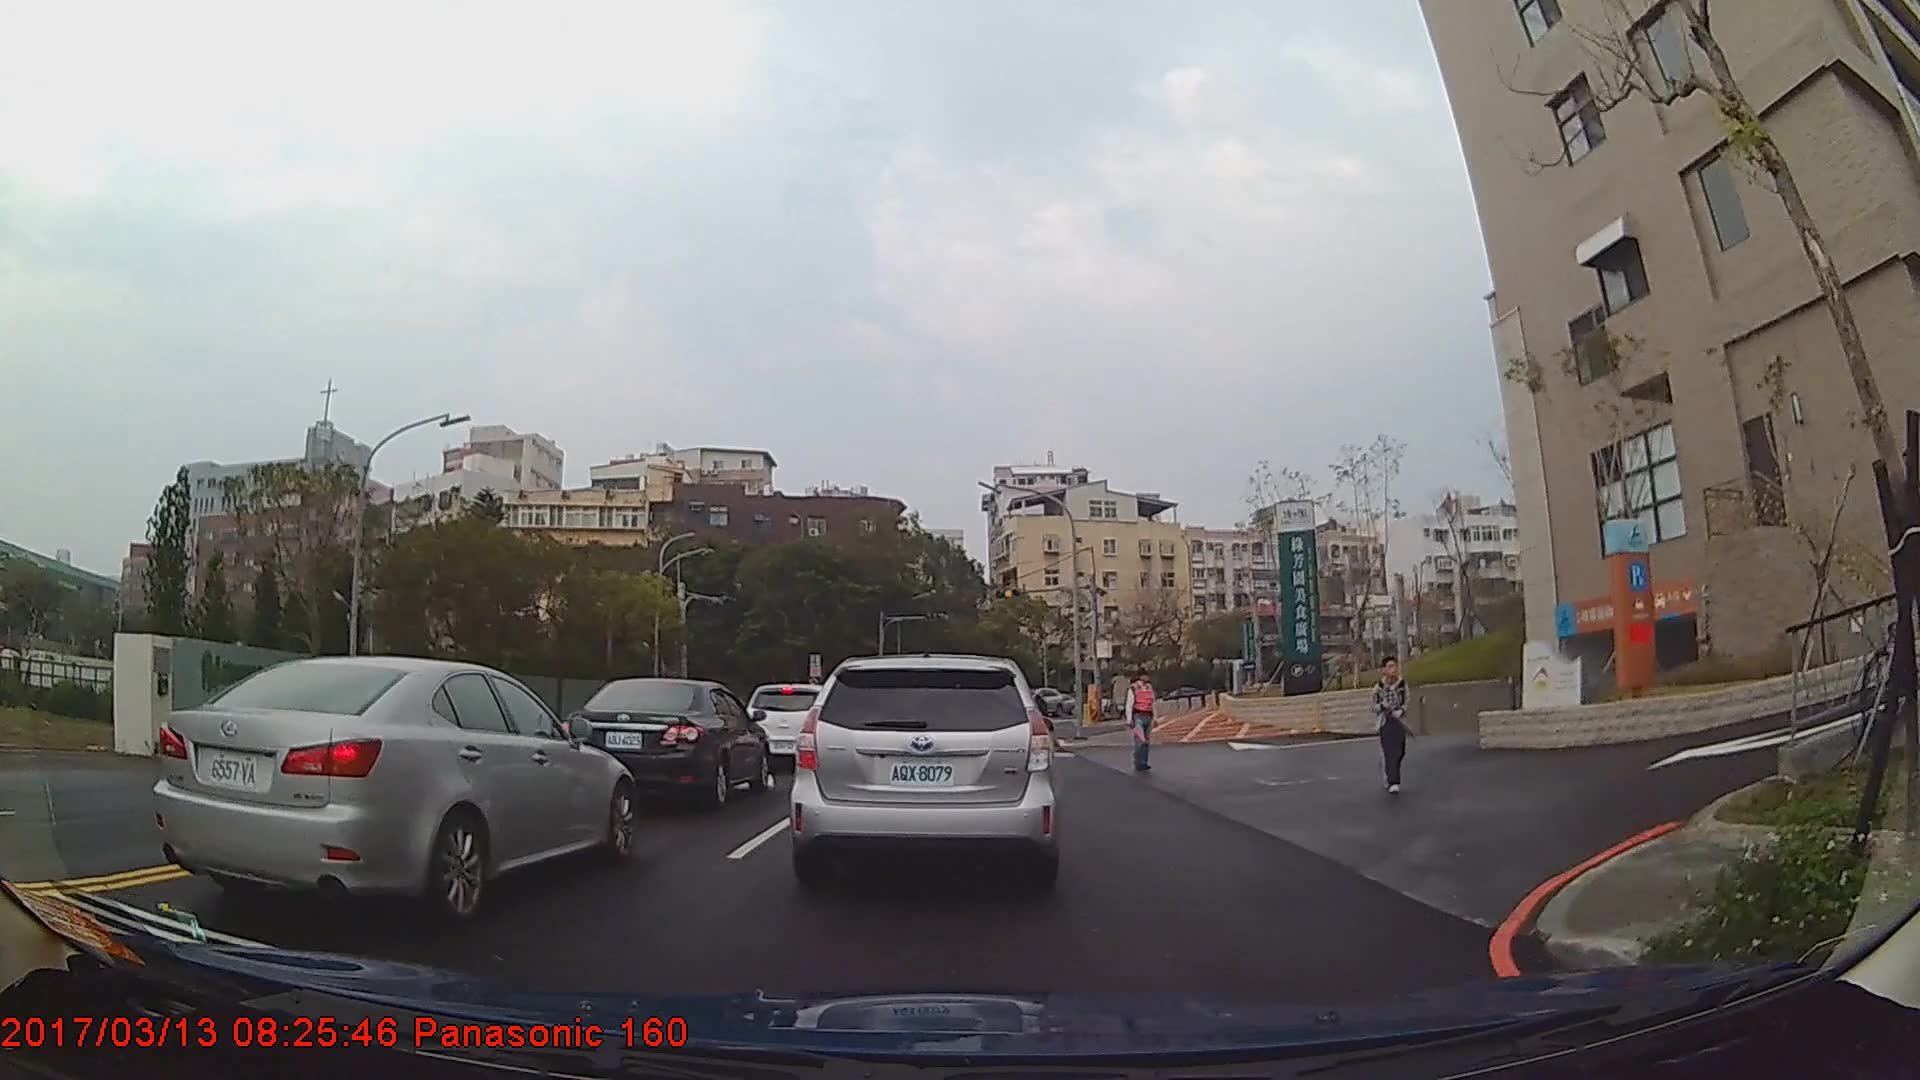pedestrian: (1370, 649, 1415, 794), (1127, 667, 1162, 771)
vehicle: (155, 656, 638, 920), (787, 653, 1058, 893), (564, 675, 770, 807), (742, 681, 834, 770)
